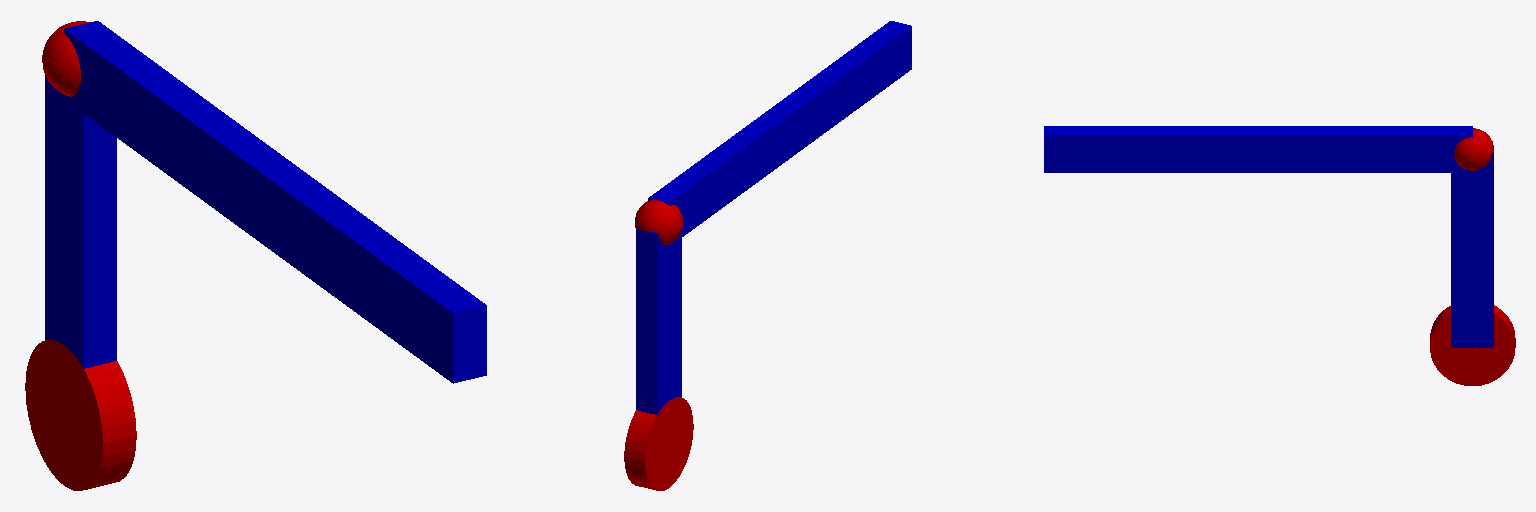
URDF robot description (TwoLinkStruct4342140148):
<?xml version="1.0"?>
<robot  name="TwoLinkStruct4342140148" >
 <material  name="blue" >
  <color  rgba="0 0 0.8 1.0" />
 </material>
 <material  name="red" >
  <color  rgba="0.8 0 0 1.0" />
 </material>
 <link  name="base_link" >
  <visual >
   <origin  rpy="0 1.5707 0"  xyz="0 0 0" />
   <material  name="red" />
   <geometry >
    <cylinder  length="0.05"  radius="0.1" />
   </geometry>
  </visual>
 </link>
 <joint  type="revolute"  name="joint1" >
  <parent  link="base_link" />
  <child  link="link1" />
  <origin  xyz="0 0 0"  rpy="0 0 0" />
  <axis  xyz="1 0 0" />
 </joint>
 <link  name="link1" >
  <inertial >
   <origin  rpy="0 0 0"  xyz="0 0 0.24937423684614585" />
   <mass  value="1.3904129342534963" />
   <inertia  ixy="0.0"  iyy="0.0005793387226056235"  izz="0.029111775446846292"  ixz="0.0"  ixx="0.029111775446846292"  iyz="0.0" />
  </inertial>
  <visual >
   <origin  rpy="0 0 0"  xyz="0 0 0.24937423684614585" />
   <material  name="blue" />
   <geometry >
    <box  size="0.05 0.1 0.4987484736922917" />
   </geometry>
  </visual>
 </link>
 <joint  type="fixed"  name="joint-joint-1" >
  <parent  link="link1" />
  <child  link="joint-link-1" />
  <origin  xyz="0 0 0.4987484736922917"  rpy="1.5707 0 0" />
  <axis  xyz="1 0 0" />
 </joint>
 <link  name="joint-link-1" >
  <inertial >
   <origin  rpy="0 0 0"  xyz="0 0 0" />
   <mass  value="5.0" />
   <inertia  ixy="0"  iyy="0"  izz="0"  ixz="0"  ixx="0"  iyz="0" />
  </inertial>
  <visual >
   <origin  rpy="0 0 0"  xyz="0 0 0" />
   <material  name="red" />
   <geometry >
    <sphere  radius="0.05" />
   </geometry>
  </visual>
 </link>
 <joint  type="revolute"  name="joint2" >
  <parent  link="link1" />
  <child  link="link2" />
  <origin  xyz="0 0 0.4987484736922917"  rpy="1.5707 0 0" />
  <axis  xyz="1 0 0" />
 </joint>
 <link  name="link2" >
  <inertial >
   <origin  rpy="0 0 0"  xyz="0 0 0.5" />
   <mass  value="4.009850978851318" />
   <inertia  ixy="0.0"  iyy="0.0005793387226056235"  izz="0.1161574138824275"  ixz="0.0"  ixx="0.1161574138824275"  iyz="0.0" />
  </inertial>
  <visual >
   <origin  rpy="0 0 0"  xyz="0 0 0.5" />
   <material  name="blue" />
   <geometry >
    <box  size="0.05 0.1 1.0" />
   </geometry>
  </visual>
 </link>
 <joint  type="fixed"  name="eef_joint" >
  <parent  link="link2" />
  <child  link="eef" />
  <origin  xyz="0 0 1.0"  rpy="0 0 0" />
 </joint>
 <link  name="eef" >
  <inertial >
   <origin  rpy="0 0 0"  xyz="0 0 0" />
   <mass  value="1" />
   <inertia  ixy="0"  iyy="0"  izz="0"  ixz="0"  ixx="0"  iyz="0" />
  </inertial>
 </link>
 <transmission  name="motor1" >
  <type  xmltext="SimpleTransmission" >
   SimpleTransmission
  </type>
  <actuator  name="motor1" >
   <mechanicalreduction  xmltext="1" >
    1
   </mechanicalreduction>
  </actuator>
  <joint  name="joint1" />
 </transmission>
 <transmission  name="motor2" >
  <type  xmltext="SimpleTransmission" >
   SimpleTransmission
  </type>
  <actuator  name="motor2" >
   <mechanicalreduction  xmltext="1" >
    1
   </mechanicalreduction>
  </actuator>
  <joint  name="joint2" />
 </transmission>
</robot>

<!-- {'carti': array([-0.1 ,  0.14,  0.85]), 'cartd': array([-0.1 ,  0.32,  1.29]), 'tau_mu': 0.7108018330813419, 'b0': 0.04035690020510602, 'Km': 1.5738871705327897, 'k_velocity': 100.0, 'tau_max_m': 2.563799803757974, 'omega_max_m': 1000.0, 'gear_ratio': 22.44420526385708, 'Kp': 42.460061092969624, 'Kd': 70.13454098295315, 'm_m': 5.0, 'l1': 0.4987484736922917, 'l2': 1.0, 'k1': 30900.0, 'k2': 118365254.14826137, 'k3': 379000000.0}-->

--- Facts derived from the render (not from the file) ---
Views: 3 orthographic renders of the robot side by side, from view 1: azimuth 30°, elevation 25°; view 2: azimuth 150°, elevation 25°; view 3: azimuth 270°, elevation 25°.
Model TwoLinkStruct4342140148 with 5 links and 4 joints (2 revolute, 2 fixed), rooted at base_link, posed every joint at zero.
Links seen in each view (by area): view 1: link2, link1, base_link, joint-link-1; view 2: link2, link1, base_link, joint-link-1; view 3: link2, link1, base_link, joint-link-1.
Link boxes in pixels (x1=…): link2: x1=64, y1=21, x2=486, y2=383; link1: x1=45, y1=75, x2=116, y2=424; base_link: x1=25, y1=340, x2=136, y2=490; joint-link-1: x1=42, y1=21, x2=89, y2=96; link2: x1=648, y1=21, x2=911, y2=245; link1: x1=636, y1=228, x2=681, y2=445; base_link: x1=624, y1=397, x2=693, y2=490; joint-link-1: x1=635, y1=200, x2=682, y2=244; link2: x1=1044, y1=126, x2=1472, y2=172; link1: x1=1451, y1=152, x2=1493, y2=347; base_link: x1=1430, y1=305, x2=1515, y2=385; joint-link-1: x1=1454, y1=128, x2=1493, y2=170.
Size in the robot's own frame: 0.1 by 1.1 by 0.6488 metres.
Geometry: primitives only (box / cylinder / sphere), no mesh files.
